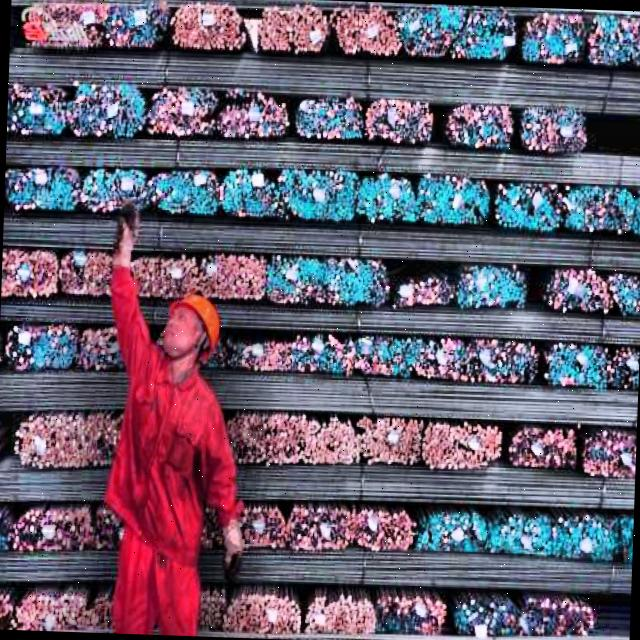helmet: (161, 286, 226, 371)
